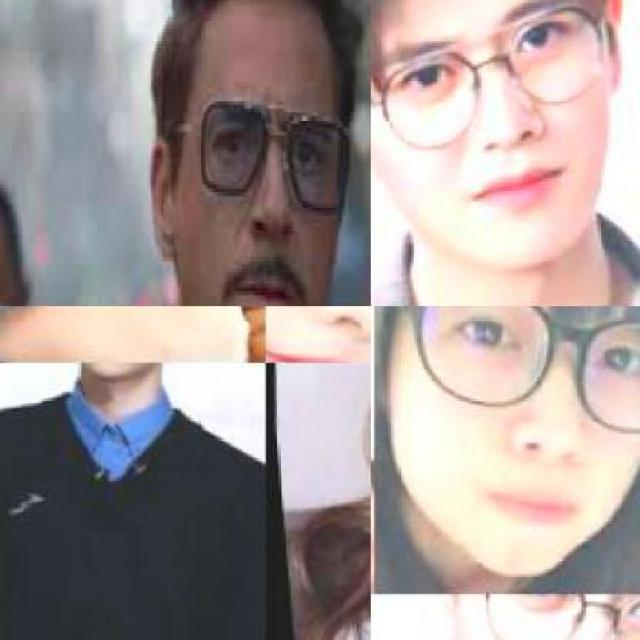mask: (370, 0, 616, 147), (388, 306, 638, 429), (184, 98, 368, 225)
